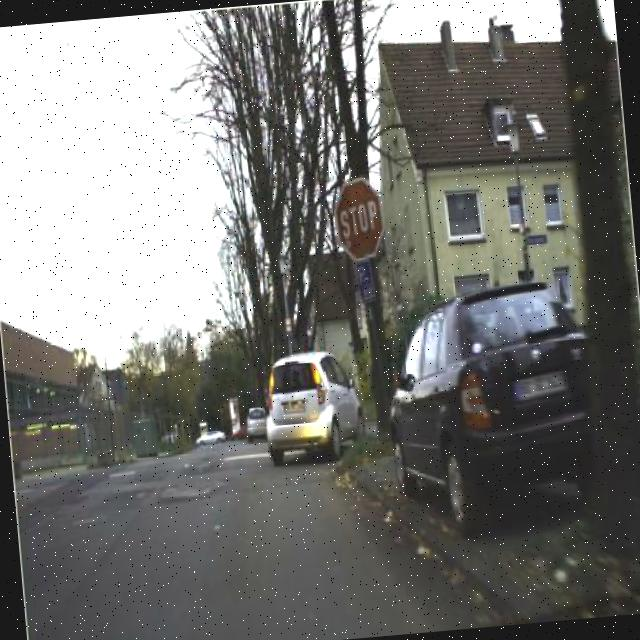Stop: (326, 172, 389, 264)
